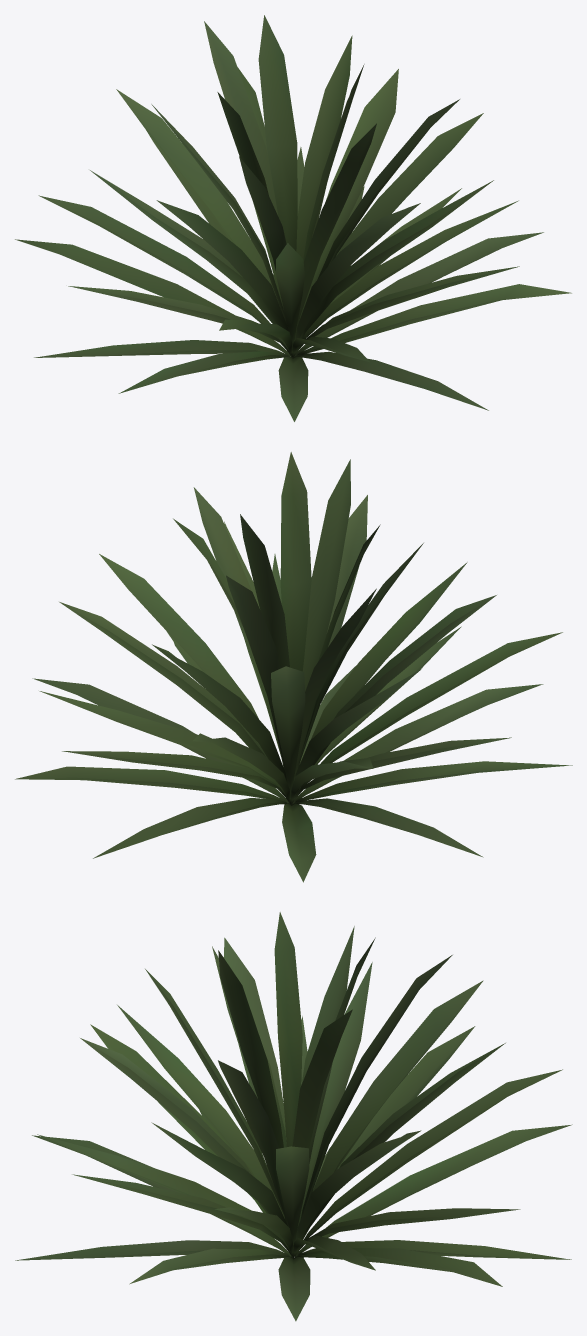
File: plants-leafy-plants-yucca_v3.glb
3 views of the same model, one above another, from view 1: azimuth 30°, elevation 25°; view 2: azimuth 150°, elevation 25°; view 3: azimuth 270°, elevation 25° (orthographic). The views are drawn at different scales.
Visible parts, largest first — view 1: Yucca_v3; view 2: Yucca_v3; view 3: Yucca_v3.
Part boxes in pixels (x1,y1,x2,y2): Yucca_v3: (15, 15, 571, 421); Yucca_v3: (15, 452, 572, 882); Yucca_v3: (15, 912, 572, 1321).
Bounding box in the file's own units: 1 × 0.6598 × 0.9643.
